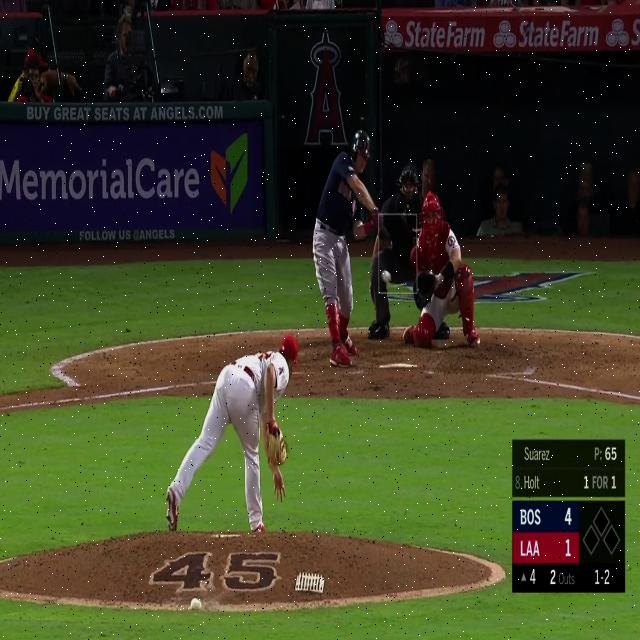baseball: (381, 269, 391, 283)
